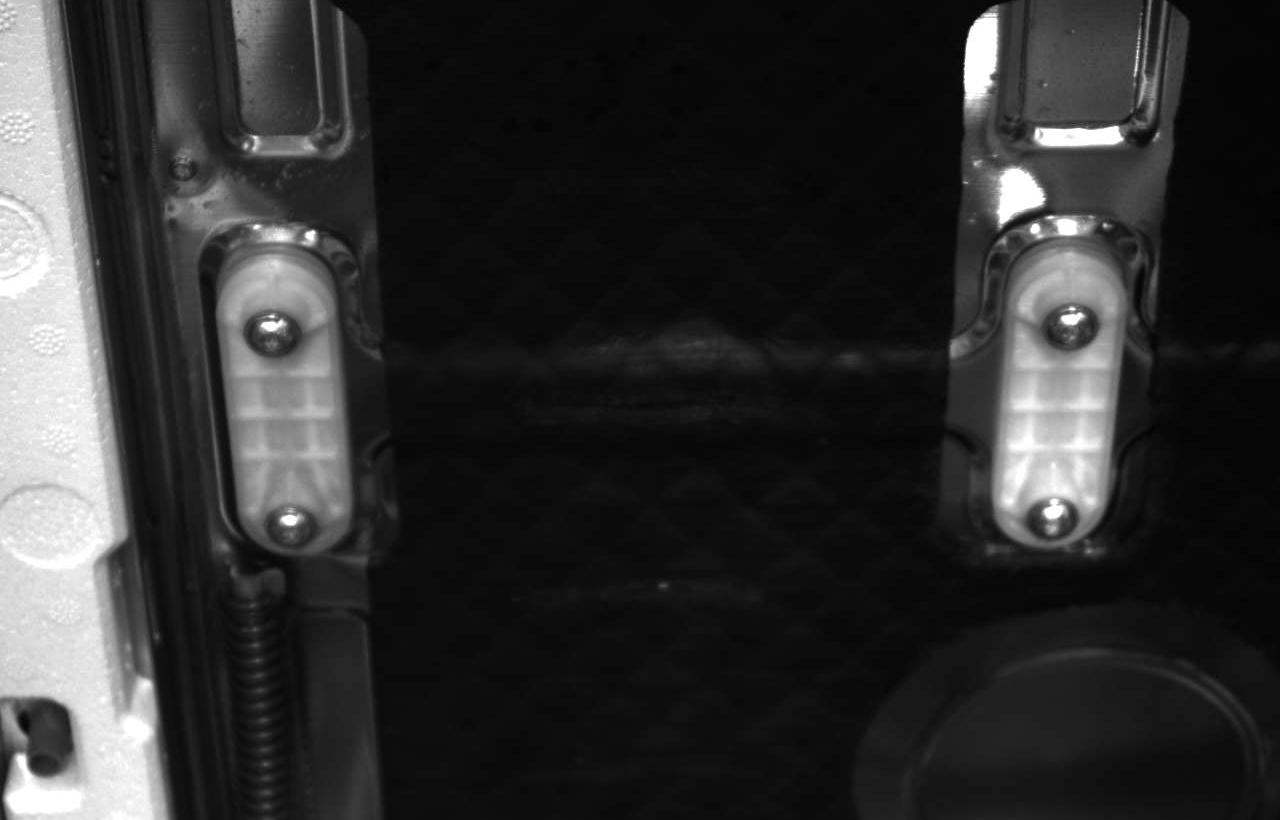vida-ok: (234, 297, 306, 364), (1039, 291, 1106, 358), (1021, 477, 1087, 545), (260, 498, 326, 557)
